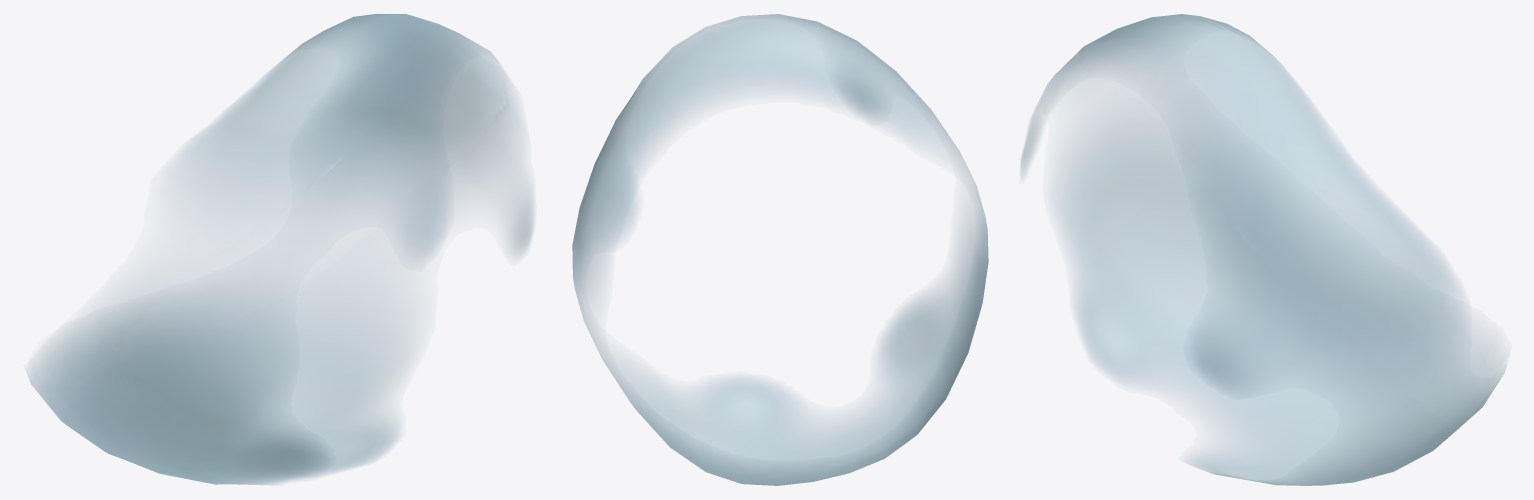
The model's file is bubble.glb.
The picture shows the model from 3 angles, left to right: view 1: azimuth 30°, elevation 25°; view 2: azimuth 150°, elevation 25°; view 3: azimuth 270°, elevation 25°; orthographic projection. The views are drawn at different scales.
Parts seen in each view (by area): view 1: Sphere001; view 2: Sphere001; view 3: Sphere001.
Part boxes in pixels (box(x1,y1,x2,y2)): Sphere001: box(28, 14, 532, 484); Sphere001: box(572, 14, 988, 485); Sphere001: box(1021, 14, 1505, 485).
Bounding box in the file's own units: 0.000591 × 0.00059 × 0.000584.
Materials: 1 (1 with a texture image).
